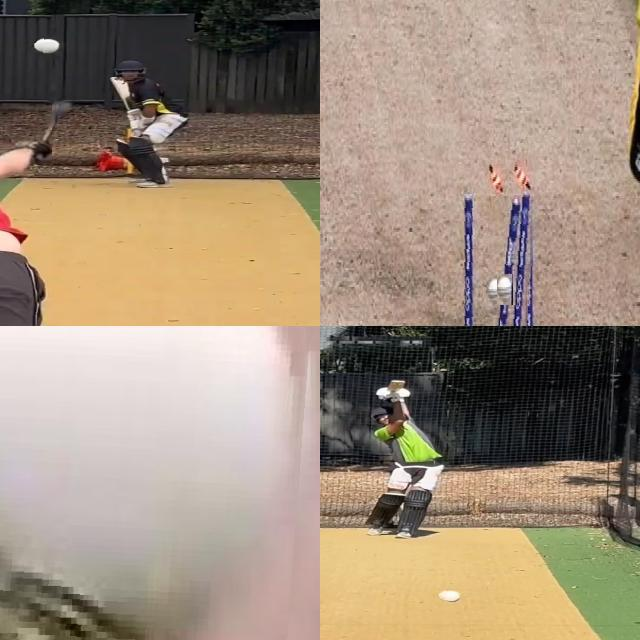Cricket ball: (0, 326, 320, 640), (436, 586, 464, 605), (34, 36, 62, 54), (497, 274, 513, 305)
Stumps: (463, 160, 539, 326)
